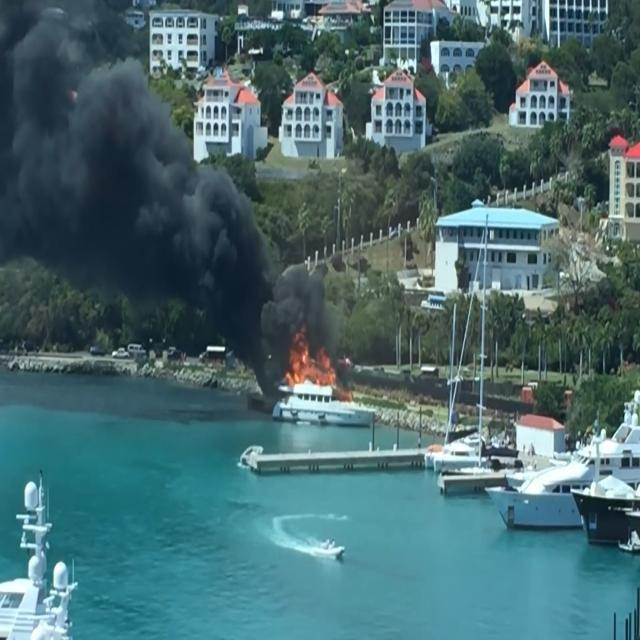Fire: (285, 329, 334, 386)
Smoke: (0, 0, 112, 274), (100, 92, 192, 256), (184, 180, 269, 334)
